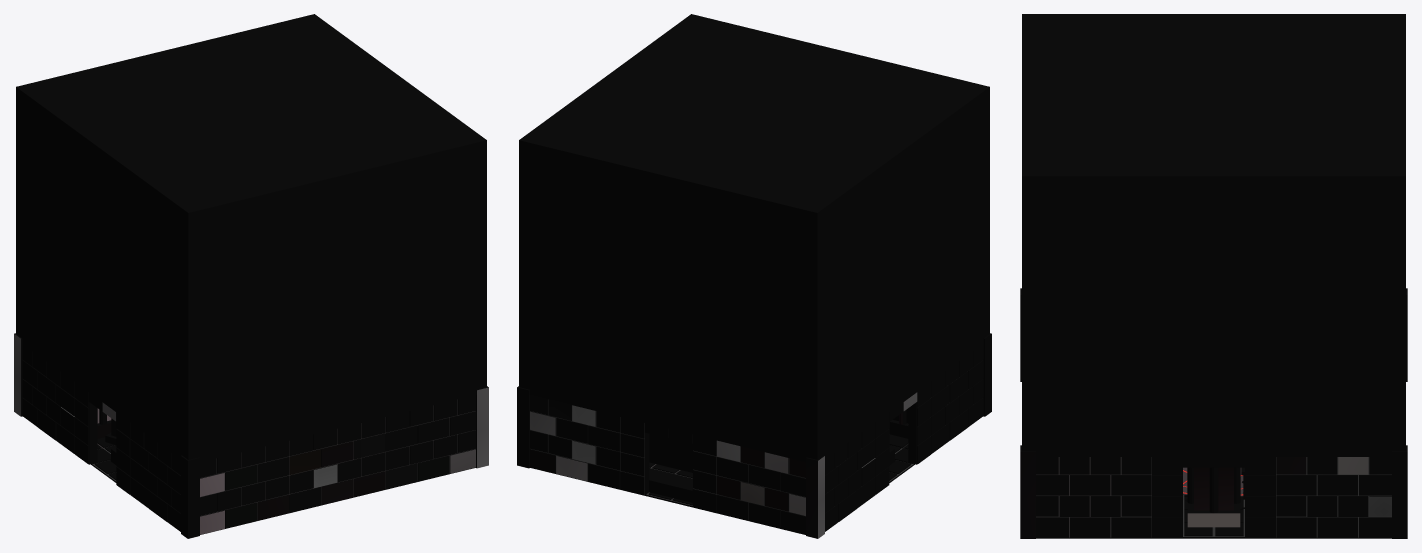
File: room_4.glb
3 views of the same model, side by side, from view 1: azimuth 30°, elevation 25°; view 2: azimuth 150°, elevation 25°; view 3: azimuth 270°, elevation 25° (orthographic). The views are drawn at different scales.
Parts seen in each view (by area): view 1: wall_up_S, ceiling, wall_up_W, wall_straight_r04_S1, wall_straight_r04_S2, wall_torch_r04_S0, wall_straight_r04_W2, wall_straight_r04_W0, door_arch_r04_W1, wall_up_E, wall_post_r04_c-1-1, wall_post_r04_c1-1 (+1 smaller); view 2: wall_up_N, ceiling, wall_up_W, wall_straight_r04_N2, wall_straight_r04_N0, door_arch_r04_N1, wall_straight_r04_W0, wall_straight_r04_W2, door_arch_r04_W1, wall_post_r04_c-11, banner_cloth, wall_up_S (+4 smaller); view 3: wall_up_E, ceiling, wall_straight_r04_E0, wall_straight_r04_E2, door_arch_r04_E1, wall_up_N, wall_up_S, wall_post_r04_c1-1, wall_post_r04_c11, pier_shaft_4.5_0.0, floor_plain_r04_2_1, pier_plinth_4.5_0.0.
Part boxes in pixels (bbox=[...]): wall_up_S: bbox=[183, 150, 486, 461]; ceiling: bbox=[16, 14, 486, 222]; wall_up_W: bbox=[16, 97, 191, 459]; wall_straight_r04_S1: bbox=[289, 417, 385, 512]; wall_straight_r04_S2: bbox=[385, 395, 476, 489]; wall_torch_r04_S0: bbox=[200, 440, 289, 534]; wall_straight_r04_W2: bbox=[22, 344, 74, 453]; wall_straight_r04_W0: bbox=[130, 423, 180, 531]; door_arch_r04_W1: bbox=[74, 382, 130, 494]; wall_up_E: bbox=[477, 151, 486, 389]; wall_post_r04_c-1-1: bbox=[181, 455, 199, 538]; wall_post_r04_c1-1: bbox=[476, 386, 488, 468]; wall_up_N: bbox=[519, 150, 822, 461]; ceiling: bbox=[519, 14, 989, 222]; wall_up_W: bbox=[813, 97, 989, 459]; wall_straight_r04_N2: bbox=[529, 395, 620, 489]; wall_straight_r04_N0: bbox=[716, 440, 805, 534]; door_arch_r04_N1: bbox=[620, 417, 716, 512]; wall_straight_r04_W0: bbox=[931, 344, 983, 453]; wall_straight_r04_W2: bbox=[825, 423, 875, 531]; door_arch_r04_W1: bbox=[875, 382, 931, 494]; wall_post_r04_c-11: bbox=[806, 455, 824, 538]; banner_cloth: bbox=[649, 433, 692, 472]; wall_up_S: bbox=[984, 98, 989, 337]; wall_up_E: bbox=[1022, 187, 1405, 456]; ceiling: bbox=[1022, 14, 1405, 187]; wall_straight_r04_E0: bbox=[1036, 457, 1151, 537]; wall_straight_r04_E2: bbox=[1276, 457, 1391, 537]; door_arch_r04_E1: bbox=[1152, 457, 1275, 537]; wall_up_N: bbox=[1393, 188, 1405, 451]; wall_up_S: bbox=[1022, 187, 1034, 451]; wall_post_r04_c1-1: bbox=[1020, 445, 1035, 538]; wall_post_r04_c11: bbox=[1392, 445, 1407, 538]; pier_shaft_4.5_0.0: bbox=[1194, 467, 1233, 510]; floor_plain_r04_2_1: bbox=[1152, 494, 1275, 538]; pier_plinth_4.5_0.0: bbox=[1187, 503, 1240, 527].
Bounding box in the file's own units: 12.5 × 13.02 × 12.5.
354 materials, 351 textured.
